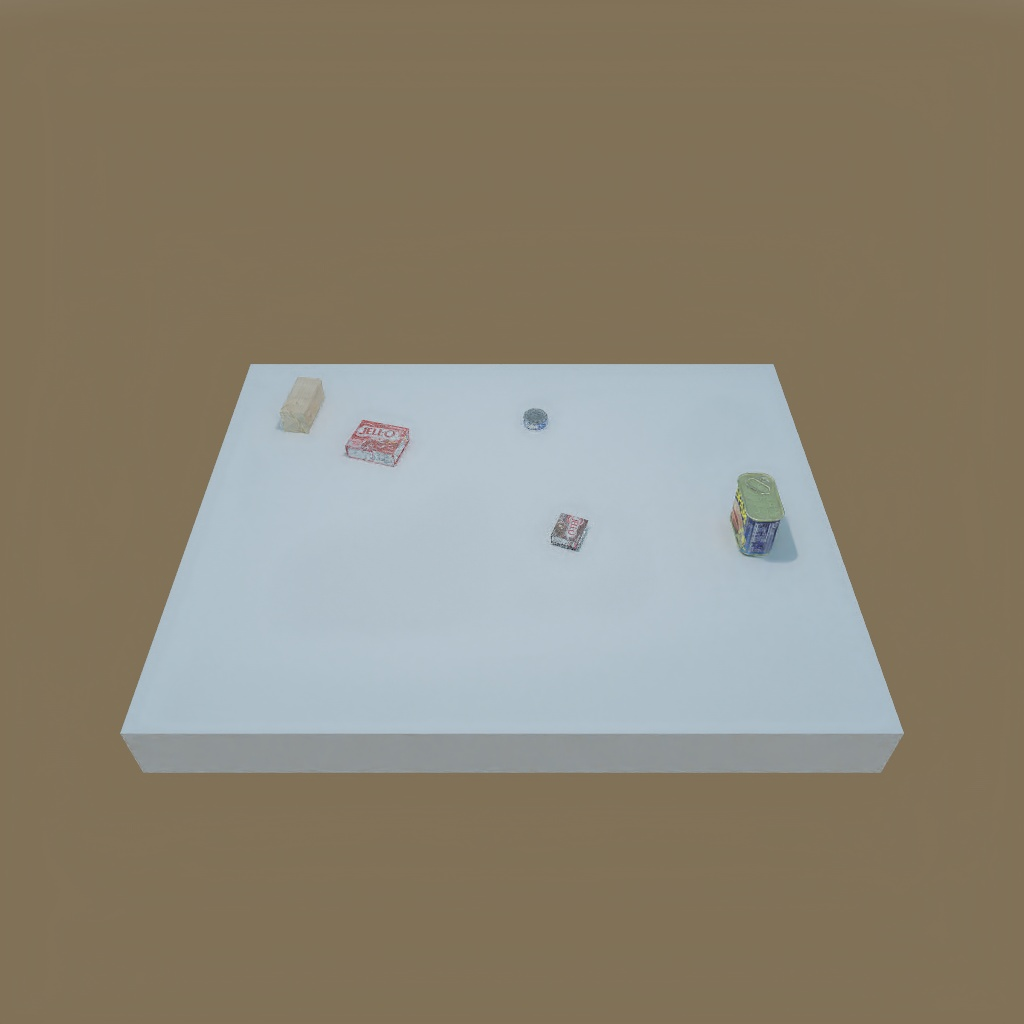gelatin_box: (346, 418, 408, 468)
potted_meat_can: (728, 474, 783, 558)
pudding_box: (547, 508, 590, 556)
wood_block: (276, 379, 325, 433)
